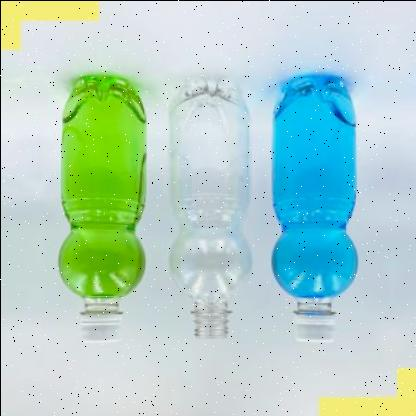Plastic Bottle: (56, 75, 144, 341), (270, 74, 357, 341), (168, 78, 250, 338)
